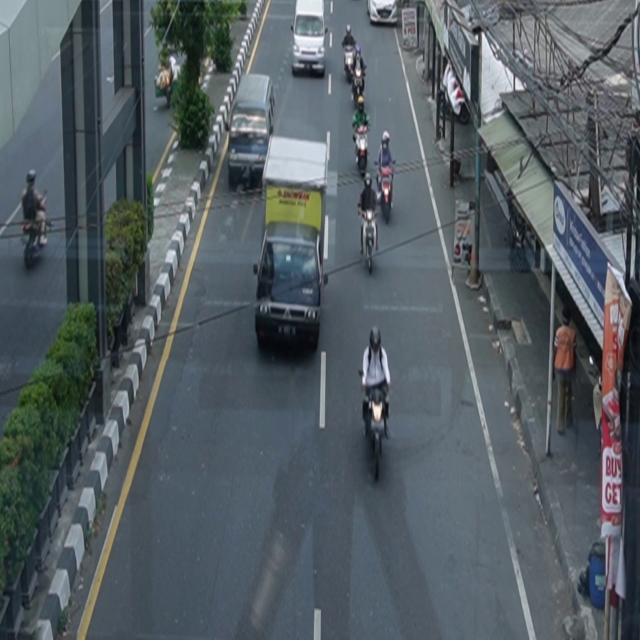car: (291, 1, 328, 77), (367, 1, 398, 26)
truck: (254, 133, 331, 353)
